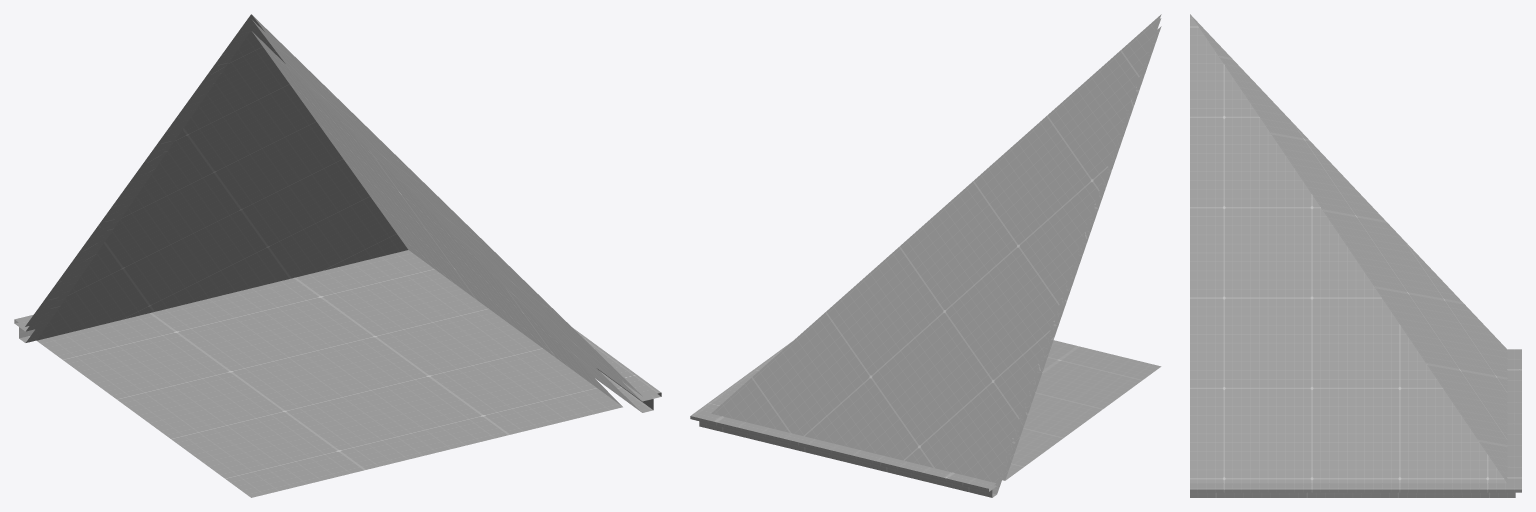
The model's file is HighRoof.006.fbx.
3 renders of one model, left to right at view 1: azimuth 30°, elevation 25°; view 2: azimuth 150°, elevation 25°; view 3: azimuth 270°, elevation 25°, orthographic. The views are drawn at different scales.
Visible parts, largest first — view 1: HighRoof.006; view 2: HighRoof.006; view 3: HighRoof.006.
Boxes of the visible parts, <box> form: HighRoof.006: <box>14,14,661,497</box>; HighRoof.006: <box>690,14,1161,497</box>; HighRoof.006: <box>1190,14,1521,497</box>.
Bounding box in the file's own units: 353 × 406 × 353.
